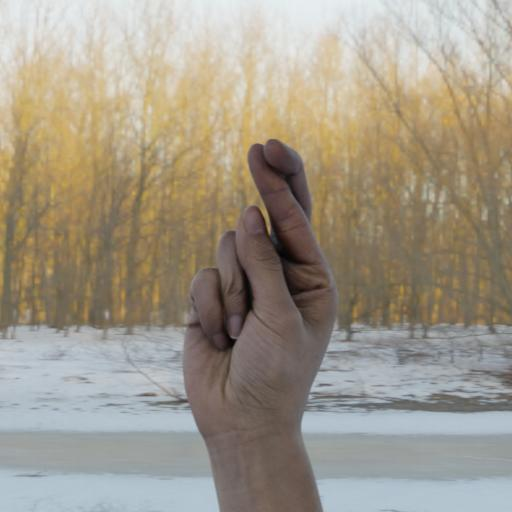R: (150, 128, 344, 512)
